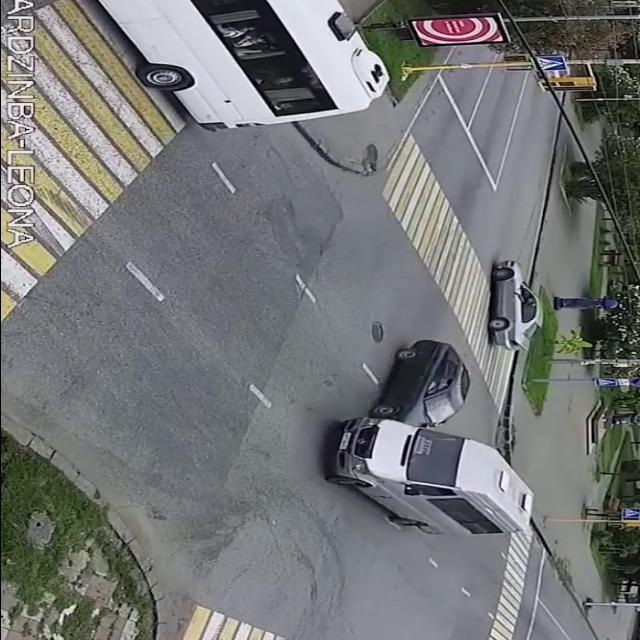accident: (314, 337, 546, 543)
